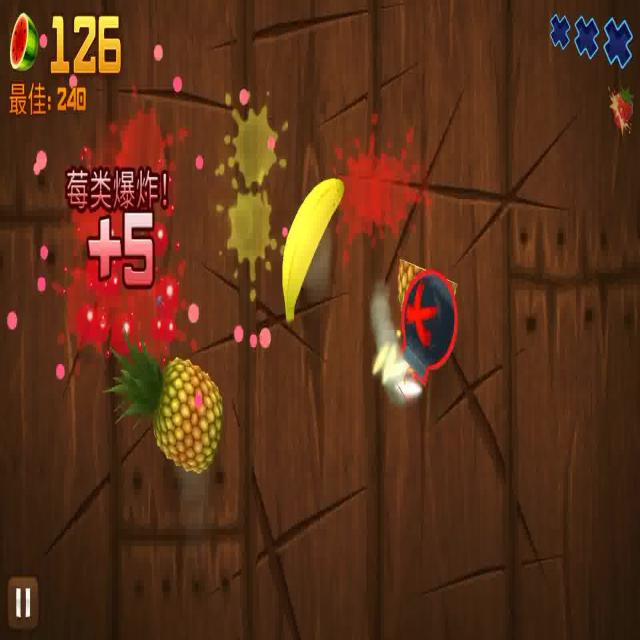bomb: (376, 271, 462, 402)
fruit: (107, 325, 228, 481), (279, 177, 344, 322), (396, 254, 460, 311)
